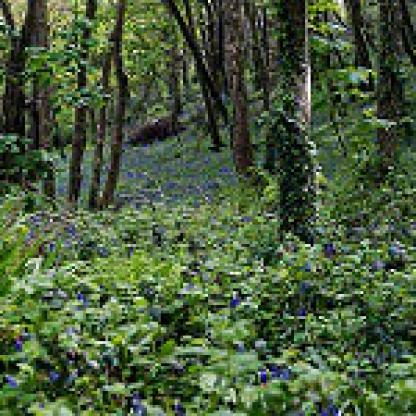trunk: (272, 0, 322, 258), (64, 0, 102, 214), (97, 0, 133, 214), (224, 0, 260, 186)
